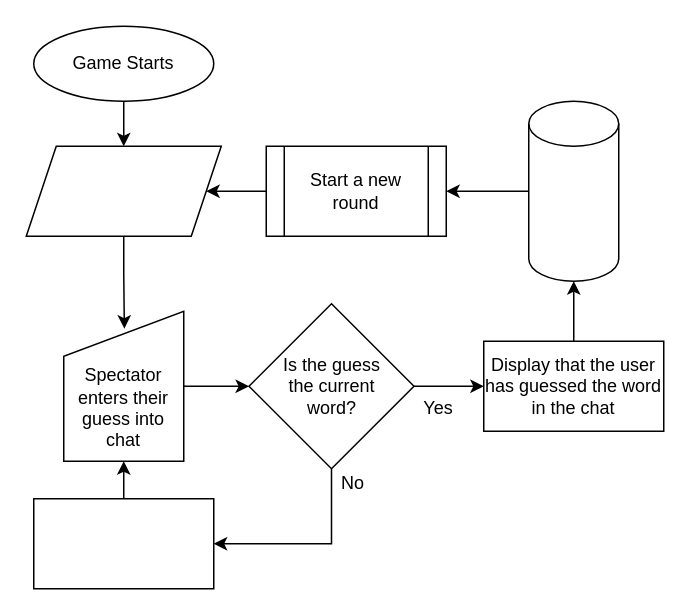
Some shapes in this 690 by 615 pixel diagram are drawn without their labels. Each missing label, with the centre of its shape:
"Add one score to the user who guessed the word" goes at point 573,190.
"Display the user's message in chat" goes at point 123,543.
"Drawer draws the current word" goes at point 123,190.
